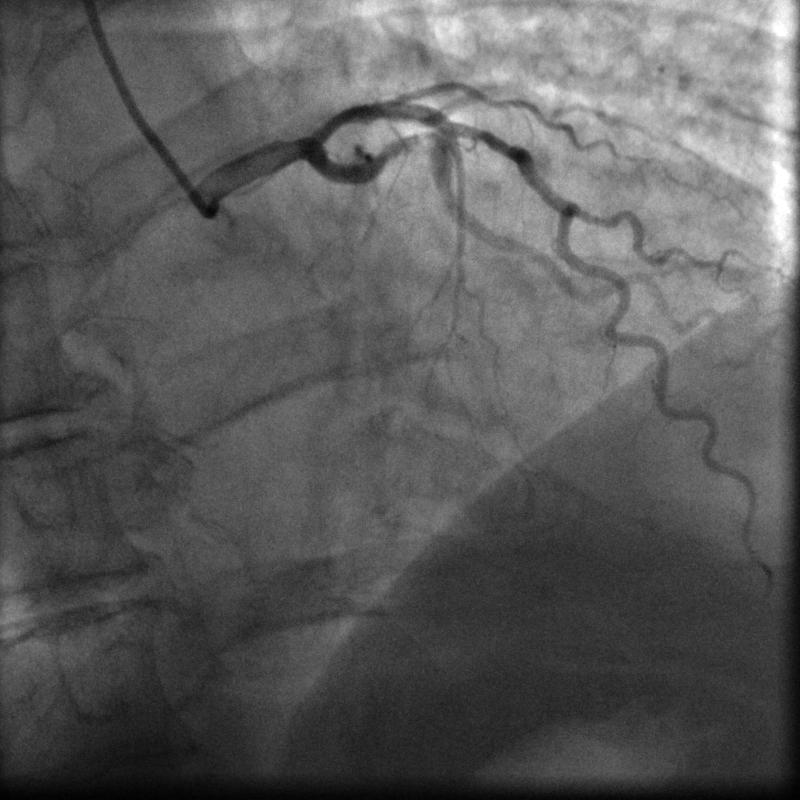Stenosis: (389, 125, 441, 155)
